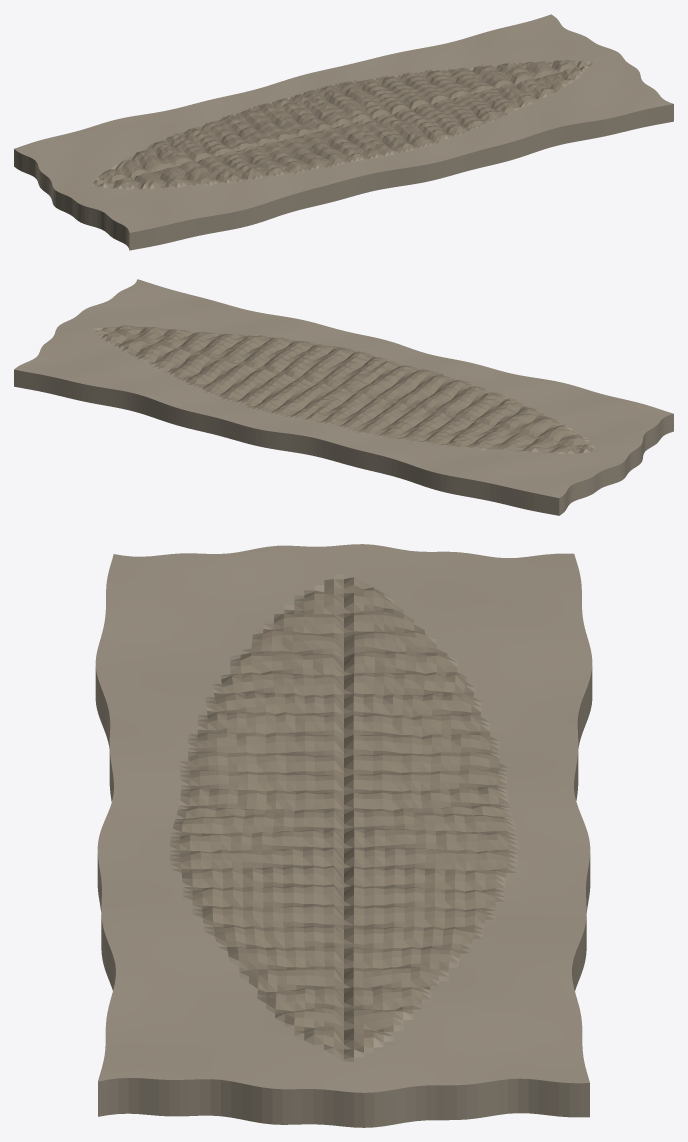
The picture shows the model from 3 angles, top to bottom: view 1: azimuth 30°, elevation 25°; view 2: azimuth 150°, elevation 25°; view 3: azimuth 270°, elevation 25°; orthographic projection. The views are drawn at different scales.
Parts seen in each view (by area): view 1: original_shallow_fusiform_fossil_cast_with_opposed_hierarchi; view 2: original_shallow_fusiform_fossil_cast_with_opposed_hierarchi; view 3: original_shallow_fusiform_fossil_cast_with_opposed_hierarchi.
Part boxes in pixels (box(x1,y1,x2,y2)): original_shallow_fusiform_fossil_cast_with_opposed_hierarchi: box(14, 14, 673, 250); original_shallow_fusiform_fossil_cast_with_opposed_hierarchi: box(14, 279, 673, 515); original_shallow_fusiform_fossil_cast_with_opposed_hierarchi: box(95, 544, 592, 1127).
Bounding box in the file's own units: 0.3014 × 0.011 × 0.1151.
